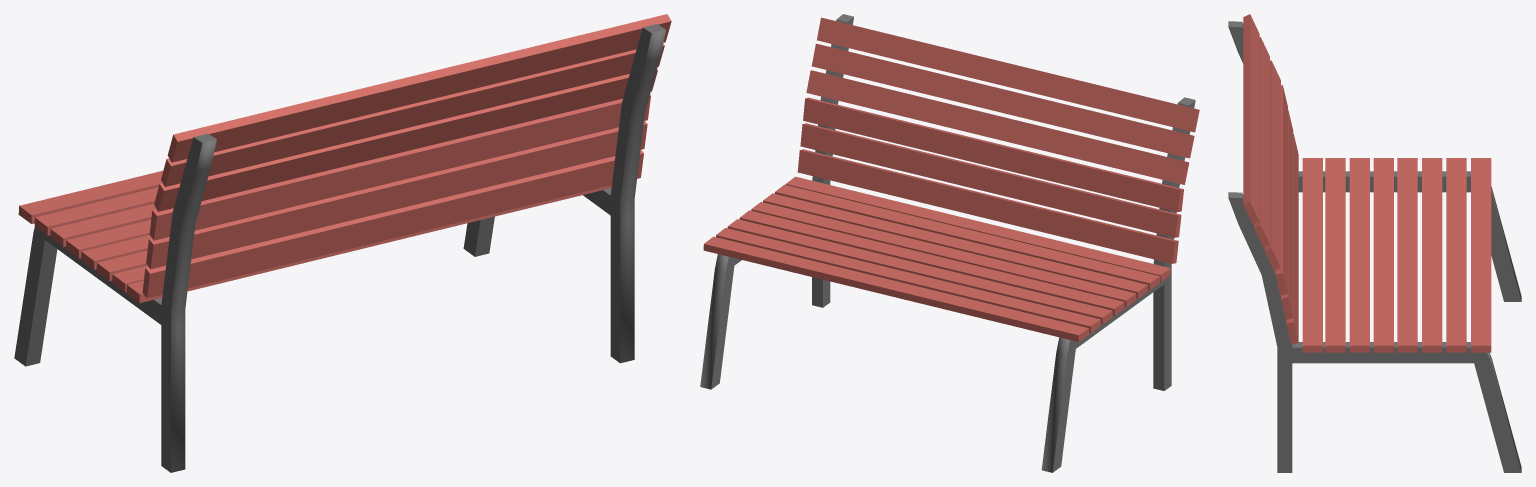
The model's file is LP-bench03-fbx.fbx.
3 renders of one model, left to right at view 1: azimuth 30°, elevation 25°; view 2: azimuth 150°, elevation 25°; view 3: azimuth 270°, elevation 25°, orthographic. The views are drawn at different scales.
Parts seen in each view (by area): view 1: Bench; view 2: Bench; view 3: Bench.
Boxes of the visible parts, <box> form: Bench: <box>14,14,671,472</box>; Bench: <box>700,14,1199,472</box>; Bench: <box>1228,14,1521,472</box>.
Bounding box in the file's own units: 196 × 135 × 129.
